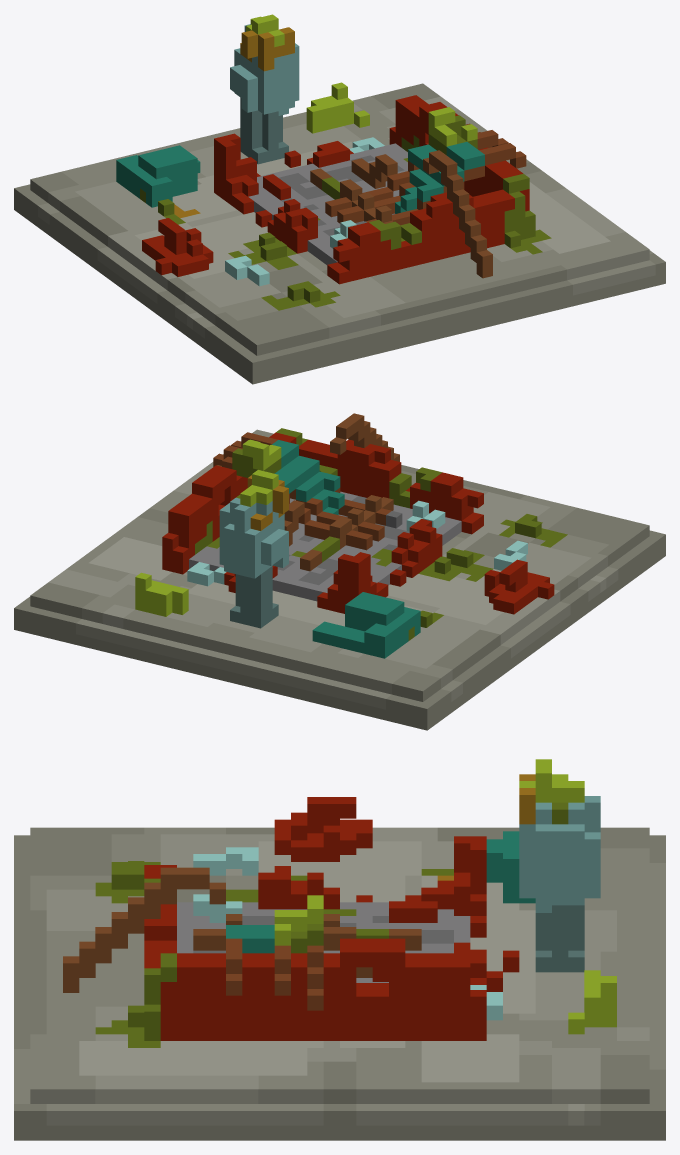
The model's file is Ruin.obj.
3 renders of one model, top to bottom at view 1: azimuth 30°, elevation 25°; view 2: azimuth 150°, elevation 25°; view 3: azimuth 270°, elevation 25°, orthographic. The views are drawn at different scales.
Size of the model in its own units: 4 by 1.6 by 4.
1 material, 1 textured.
